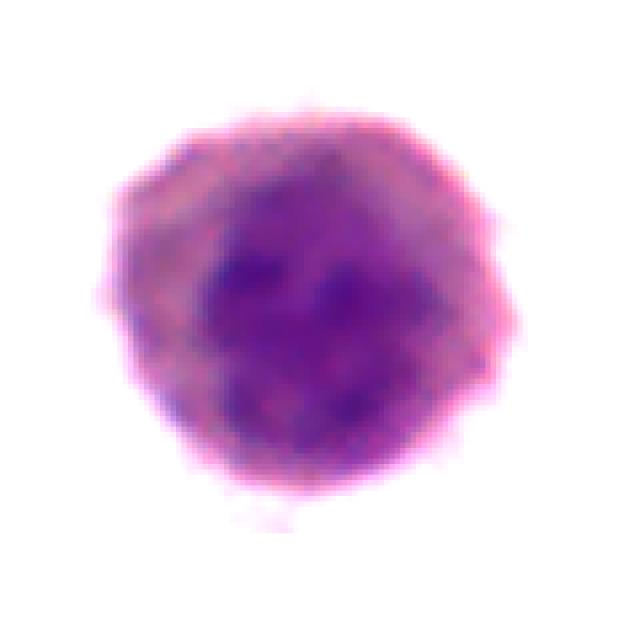WBC: (91, 101, 528, 512)
